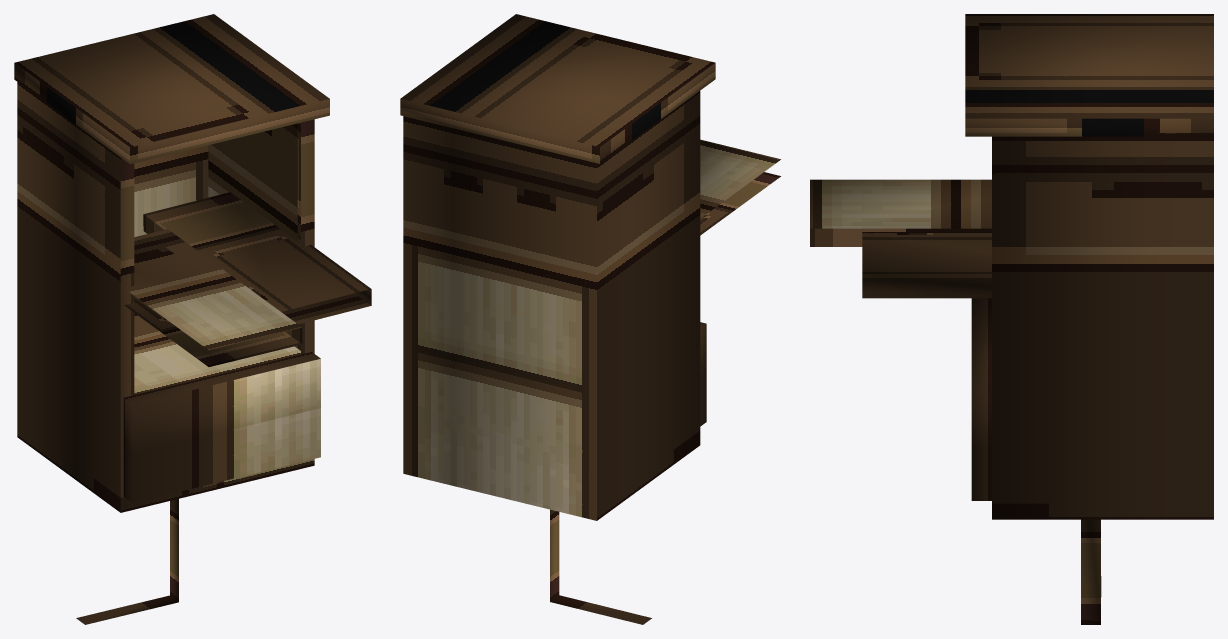
3 views of the same model, side by side, from view 1: azimuth 30°, elevation 25°; view 2: azimuth 150°, elevation 25°; view 3: azimuth 270°, elevation 25° (orthographic). The views are drawn at different scales.
Parts seen in each view (by area): view 1: 3216IMSD01_02; view 2: 3216IMSD01_02; view 3: 3216IMSD01_02.
Boxes of the visible parts, left/top/right/bottom form: 3216IMSD01_02: left=14, top=14, right=371, bottom=624; 3216IMSD01_02: left=400, top=14, right=780, bottom=624; 3216IMSD01_02: left=810, top=14, right=1213, bottom=624.
Size of the model in its own units: 0.9756 by 2.42 by 1.59.
Materials: 2 (2 with a texture image).
